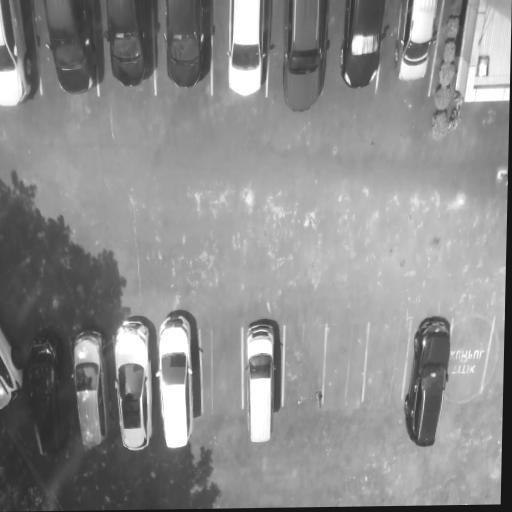Car: (156, 310, 201, 452), (404, 313, 450, 451), (111, 320, 155, 452), (44, 0, 100, 103), (283, 0, 333, 113), (242, 313, 284, 446), (22, 332, 64, 459), (69, 327, 110, 457), (106, 0, 158, 98), (165, 0, 214, 101), (340, 0, 389, 94), (0, 2, 44, 106), (226, 0, 270, 97), (395, 0, 443, 86), (0, 316, 30, 423)
Space Available: (200, 317, 245, 434), (324, 313, 368, 429), (283, 318, 325, 432), (449, 308, 491, 416), (366, 320, 408, 420)
